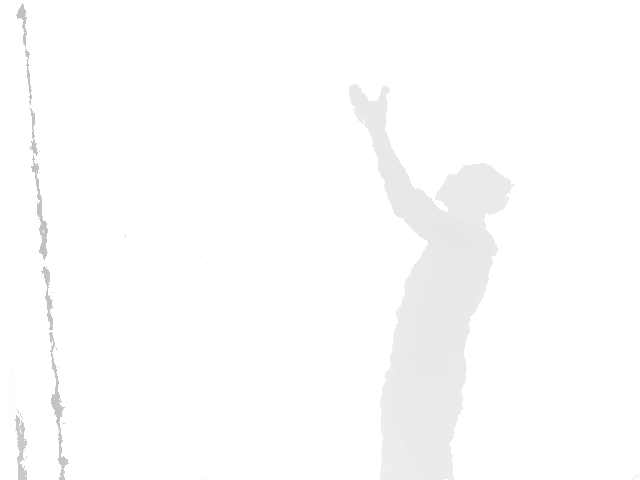hand: (347, 84, 390, 134)
head: (435, 162, 514, 216)
person: (347, 84, 513, 480)
